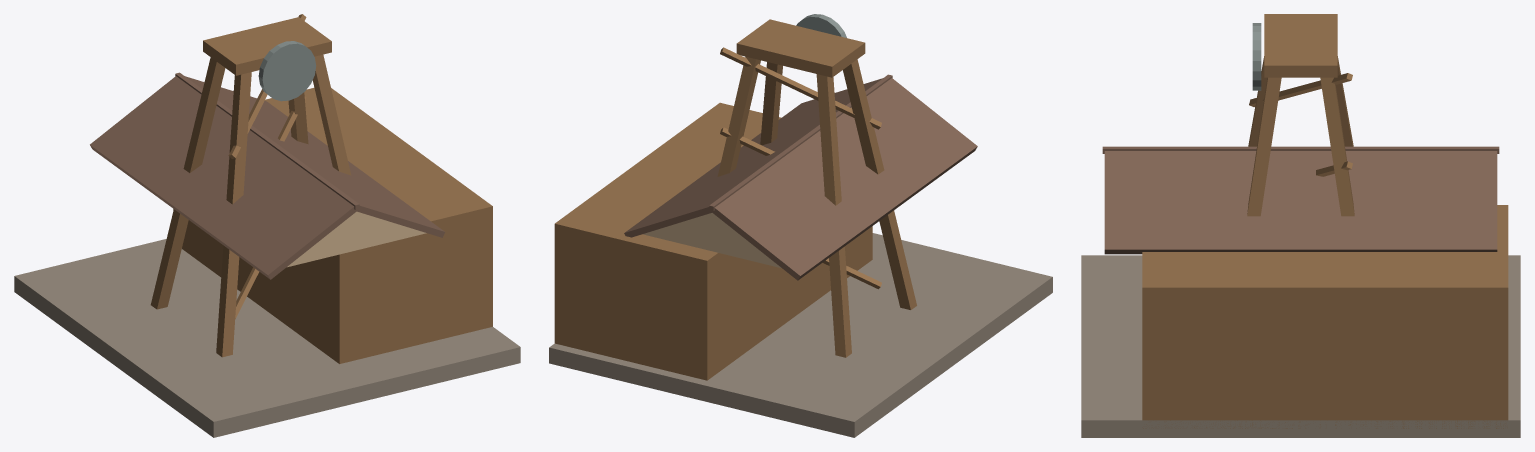
Rendered from arizona-mine-headframe_lod0.glb.
The picture shows the model from 3 angles, left to right: view 1: azimuth 30°, elevation 25°; view 2: azimuth 150°, elevation 25°; view 3: azimuth 270°, elevation 25°; orthographic projection. The views are drawn at different scales.
Visible parts, largest first — view 1: RF_AZ_Mine_Base, RF_AZ_Mine_Shed, RF_AZ_MineShed_RoofLeft, RF_AZ_MineShed_RoofRight, RF_AZ_Mine_Leg, RF_AZ_Mine_Top, RF_AZ_Mine_Leg.001, RF_AZ_MineShed_Gable, RF_AZ_Mine_Sheave, RF_AZ_Mine_Leg.002, RF_AZ_MineShed_Ridge, RF_AZ_Mine_Leg.003; view 2: RF_AZ_Mine_Shed, RF_AZ_Mine_Base, RF_AZ_MineShed_RoofLeft, RF_AZ_MineShed_RoofRight, RF_AZ_Mine_Top, RF_AZ_Mine_Leg.001, RF_AZ_Mine_Leg, RF_AZ_MineShed_Gable.001, RF_AZ_Mine_Leg.003, RF_AZ_Mine_Leg.002, RF_AZ_Mine_Brace.002, RF_AZ_MineShed_Ridge (+1 smaller); view 3: RF_AZ_Mine_Shed, RF_AZ_MineShed_RoofRight, RF_AZ_Mine_Base, RF_AZ_Mine_Top, RF_AZ_Mine_Leg.002, RF_AZ_Mine_Leg.003, RF_AZ_MineShed_Ridge, RF_AZ_Mine_Sheave, RF_AZ_Mine_Brace.002, RF_AZ_Mine_Leg, RF_AZ_Mine_Leg.001.
Part boxes in pixels (x1,y1,x2,y2): RF_AZ_Mine_Base: (14,239,520,437); RF_AZ_Mine_Shed: (173,88,492,363); RF_AZ_MineShed_RoofLeft: (90,76,357,279); RF_AZ_MineShed_RoofRight: (185,76,444,237); RF_AZ_Mine_Leg: (216,72,251,357); RF_AZ_Mine_Top: (203,17,331,75); RF_AZ_Mine_Leg.001: (150,57,225,309); RF_AZ_MineShed_Gable: (287,211,426,267); RF_AZ_Mine_Sheave: (258,41,316,101); RF_AZ_Mine_Leg.002: (312,54,351,175); RF_AZ_MineShed_Ridge: (175,72,359,209); RF_AZ_Mine_Leg.003: (288,92,308,144); RF_AZ_Mine_Shed: (554,102,872,380); RF_AZ_Mine_Base: (549,233,1052,437); RF_AZ_MineShed_RoofLeft: (711,78,977,280); RF_AZ_MineShed_RoofRight: (624,78,882,237); RF_AZ_Mine_Top: (736,19,865,77); RF_AZ_Mine_Leg.001: (816,74,851,357); RF_AZ_Mine_Leg: (843,59,916,309); RF_AZ_MineShed_Gable.001: (643,213,781,268); RF_AZ_Mine_Leg.003: (717,56,760,176); RF_AZ_Mine_Leg.002: (760,62,782,145); RF_AZ_Mine_Brace.002: (720,47,881,129); RF_AZ_MineShed_Ridge: (709,74,892,210); RF_AZ_Mine_Shed: (1142,205,1508,428); RF_AZ_MineShed_RoofRight: (1104,151,1497,254); RF_AZ_Mine_Base: (1081,255,1520,437); RF_AZ_Mine_Top: (1264,14,1337,77); RF_AZ_Mine_Leg.002: (1247,77,1281,216); RF_AZ_Mine_Leg.003: (1320,77,1354,216); RF_AZ_MineShed_Ridge: (1102,146,1499,153); RF_AZ_Mine_Sheave: (1252,23,1261,90); RF_AZ_Mine_Brace.002: (1249,73,1352,106); RF_AZ_Mine_Leg: (1248,56,1267,146); RF_AZ_Mine_Leg.001: (1335,56,1353,146).
Bounding box in the file's own units: 16 × 14.9 × 18.
